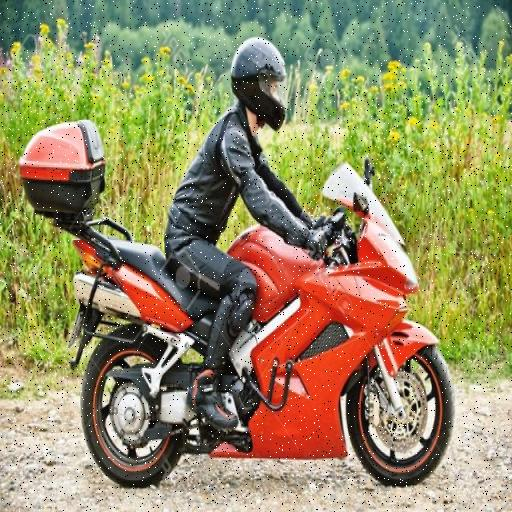Helmet: (231, 38, 286, 130)
Motor: (44, 204, 466, 502)
